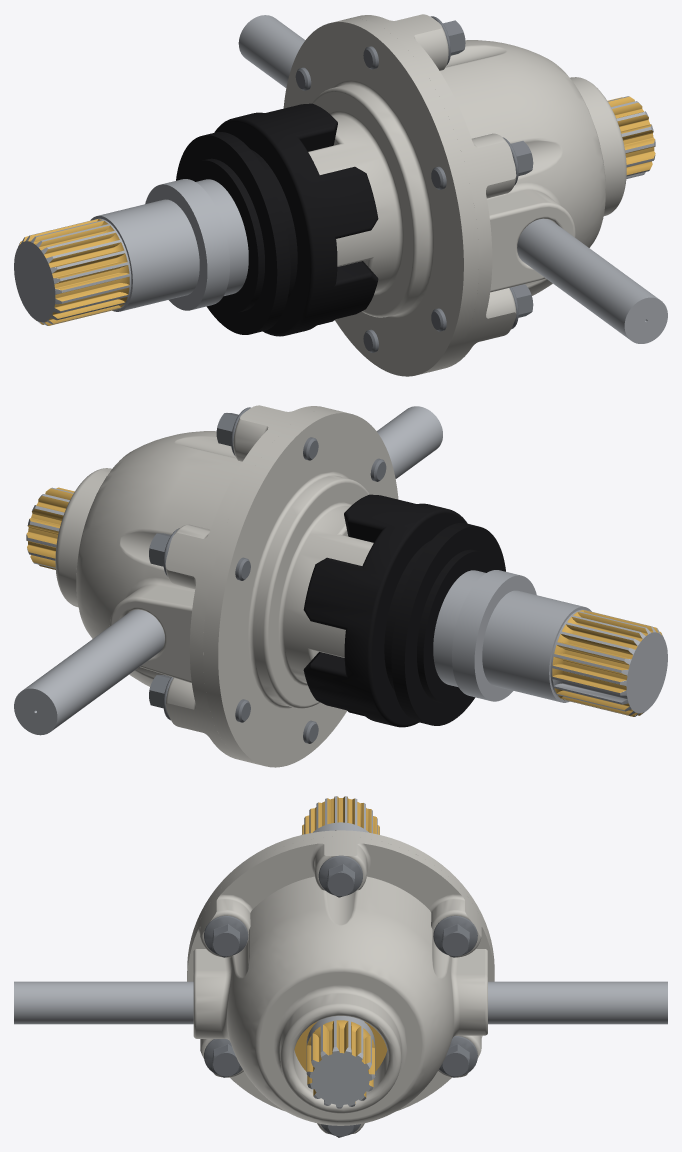
File: car-differential.glb
3 views of the same model, one above another, from view 1: azimuth 30°, elevation 25°; view 2: azimuth 150°, elevation 25°; view 3: azimuth 270°, elevation 25° (orthographic). The views are drawn at different scales.
Parts seen in each view (by area): view 1: NAUO2, NAUO1, NAUO3, NAUO4, NAUO7, NAUO8, NAUO6, NAUO9, NAUO12, NAUO11; view 2: NAUO2, NAUO1, NAUO3, NAUO4, NAUO8, NAUO7, NAUO6, NAUO9, NAUO10, NAUO14; view 3: NAUO1, NAUO7, NAUO8, NAUO6, NAUO2, NAUO4, NAUO12, NAUO10, NAUO9, NAUO14, NAUO11.
Boxes of the visible parts, x1,y1,x2,y2 form: NAUO2: [283, 18, 478, 376]; NAUO1: [349, 14, 626, 370]; NAUO3: [176, 103, 378, 336]; NAUO4: [14, 179, 248, 325]; NAUO7: [517, 218, 667, 343]; NAUO8: [238, 15, 305, 87]; NAUO6: [607, 96, 655, 178]; NAUO9: [363, 16, 465, 69]; NAUO12: [431, 137, 533, 189]; NAUO11: [431, 284, 533, 331]; NAUO2: [203, 409, 398, 767]; NAUO1: [55, 405, 334, 761]; NAUO3: [303, 494, 505, 727]; NAUO4: [433, 570, 667, 716]; NAUO8: [14, 609, 164, 735]; NAUO7: [376, 406, 442, 478]; NAUO6: [26, 487, 74, 569]; NAUO9: [216, 407, 318, 460]; NAUO10: [149, 528, 250, 580]; NAUO14: [149, 675, 250, 722]; NAUO1: [187, 836, 494, 1134]; NAUO7: [14, 981, 193, 1024]; NAUO8: [488, 981, 667, 1024]; NAUO6: [294, 1016, 387, 1108]; NAUO2: [187, 830, 494, 1055]; NAUO4: [302, 796, 379, 834]; NAUO12: [204, 915, 248, 957]; NAUO10: [433, 915, 477, 957]; NAUO9: [318, 855, 362, 897]; NAUO14: [439, 1036, 477, 1077]; NAUO11: [204, 1039, 242, 1077].
Size of the model in its own units: 0.1803 by 0.0946 by 0.1999.
